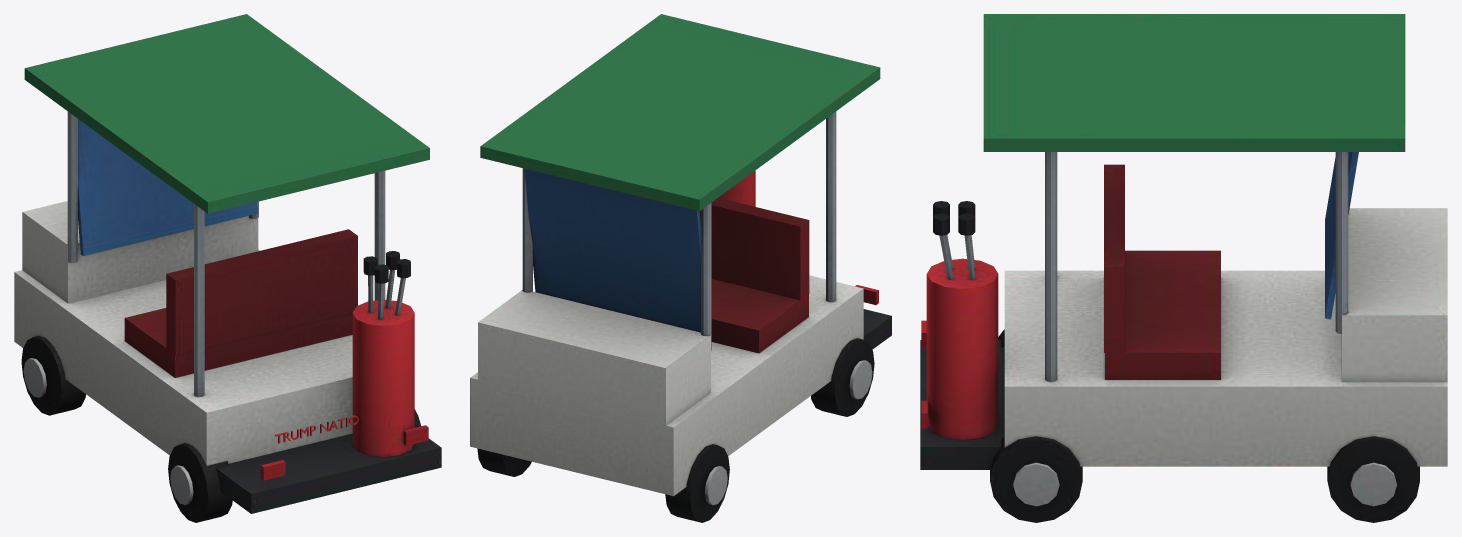
File: carrito_golf.glb
3 views of the same model, side by side, from view 1: azimuth 30°, elevation 25°; view 2: azimuth 150°, elevation 25°; view 3: azimuth 270°, elevation 25° (orthographic). The views are drawn at different scales.
Visible parts, largest first — view 1: carrito_golf; view 2: carrito_golf; view 3: carrito_golf.
Boxes of the visible parts, x1,y1,x2,y2 form: carrito_golf: (14, 14, 441, 522); carrito_golf: (470, 14, 891, 522); carrito_golf: (920, 14, 1447, 522).
Size of the model in its own units: 1.46 by 2.02 by 2.5.
Materials: 1 (1 with a texture image).
